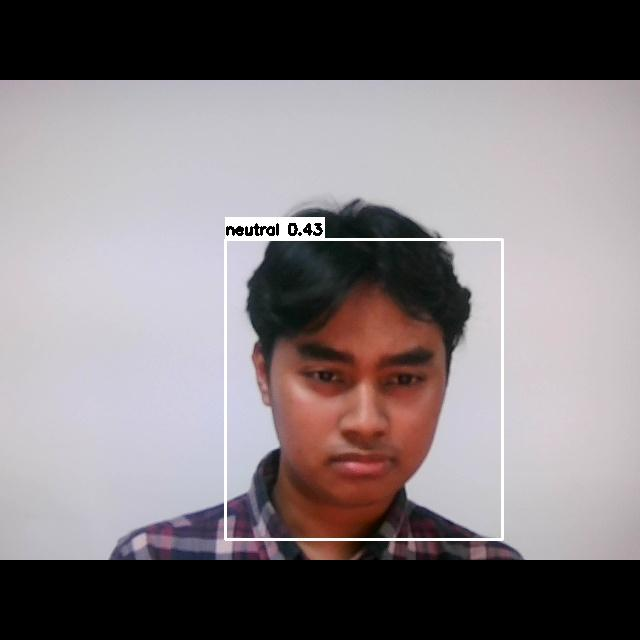Angry: (262, 312, 454, 506)
